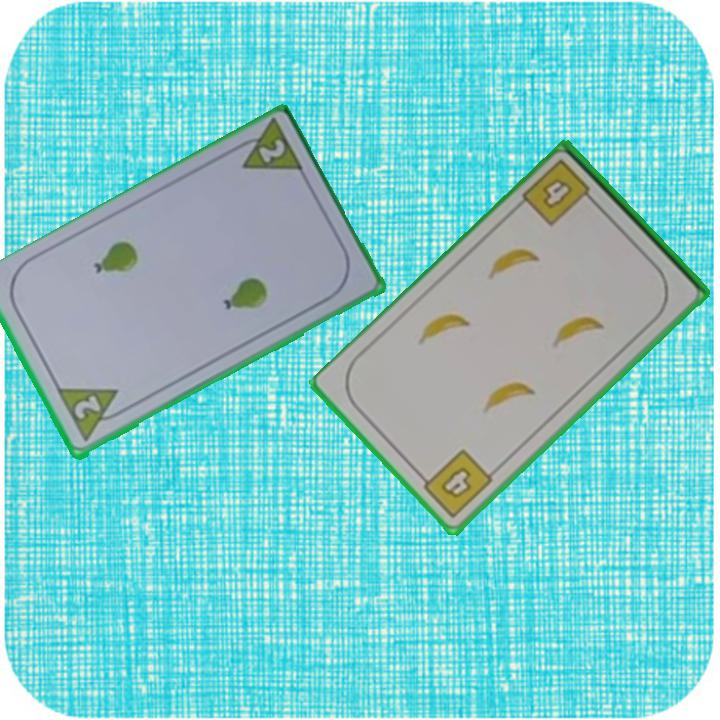2p: (227, 117, 307, 177), (70, 392, 104, 424)
4b: (414, 445, 496, 522), (519, 155, 601, 229)
